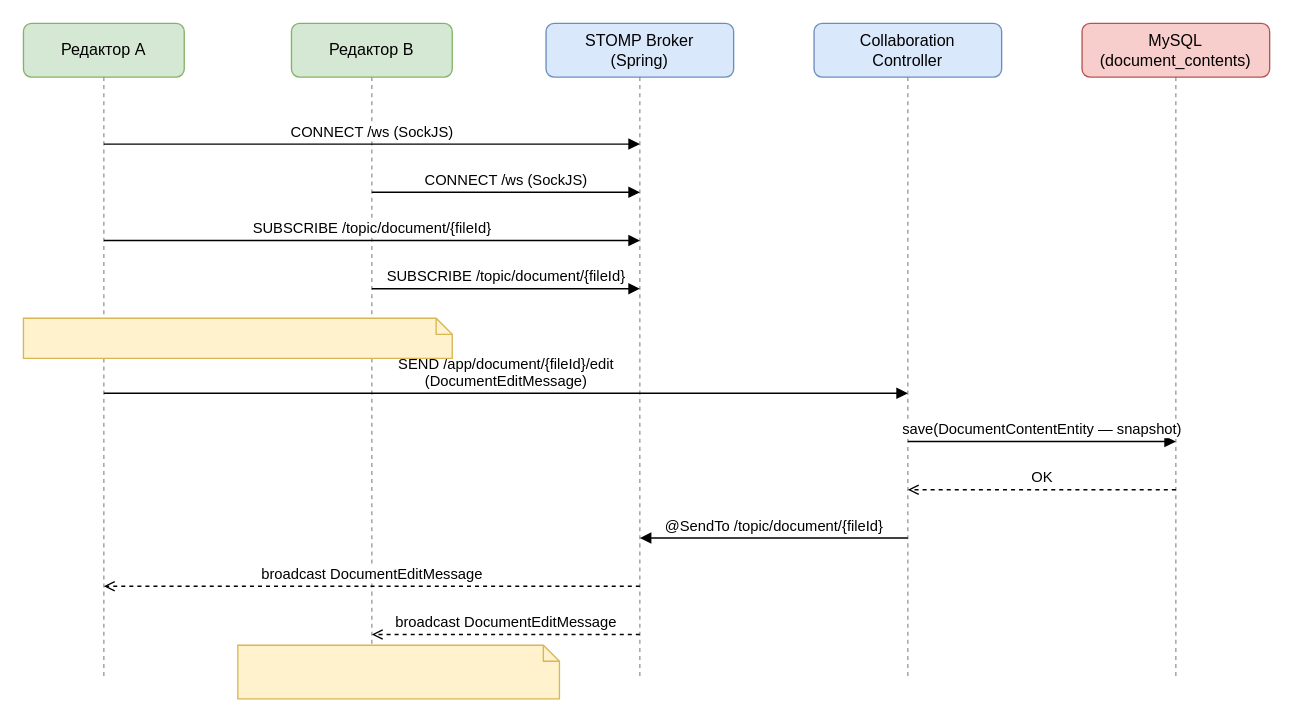
Image size: 1293x722. Some labels were removed from this diagram. The shapes that lost their labels are listed below. From the top down, each one's box as (x1, y1, x2, y2) in pixels, then its label:
(22, 317, 452, 358): Потребител A въвежда текст
(237, 644, 559, 699): UI се обновява в реално време (показва последния редактор)
